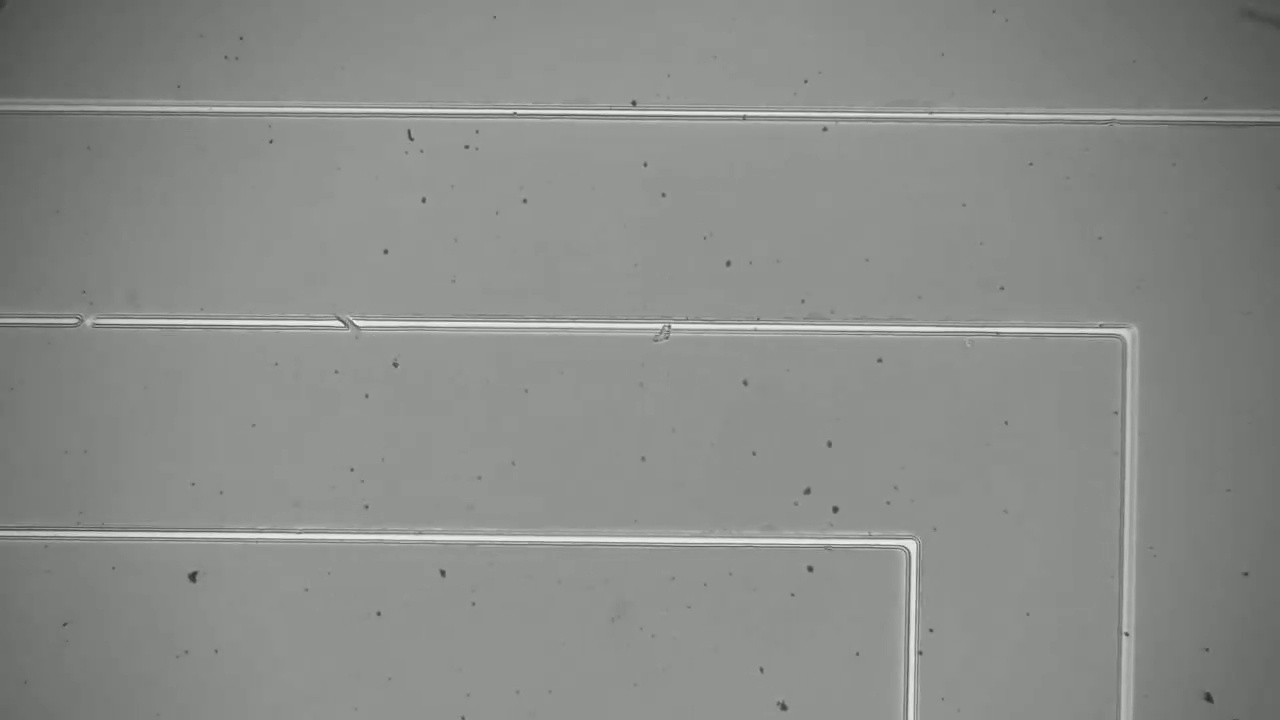open: (61, 298, 111, 345), (325, 304, 369, 346)
stains_enbedded: (639, 310, 685, 353)
